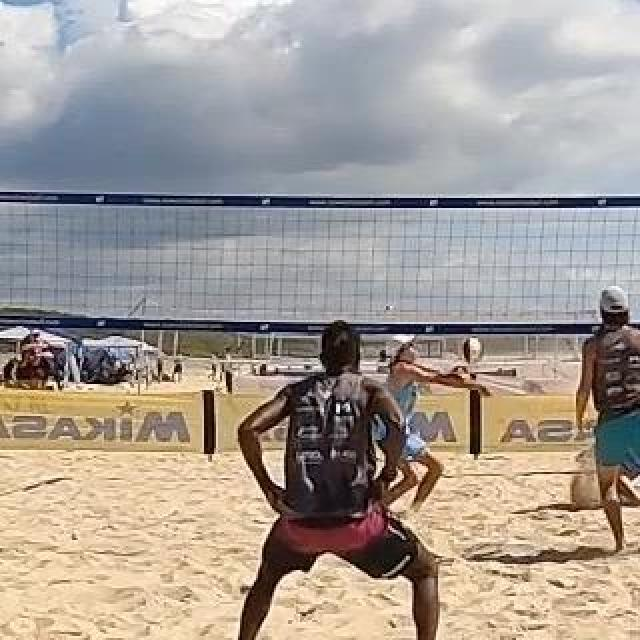volleyball: (459, 339, 483, 363)
